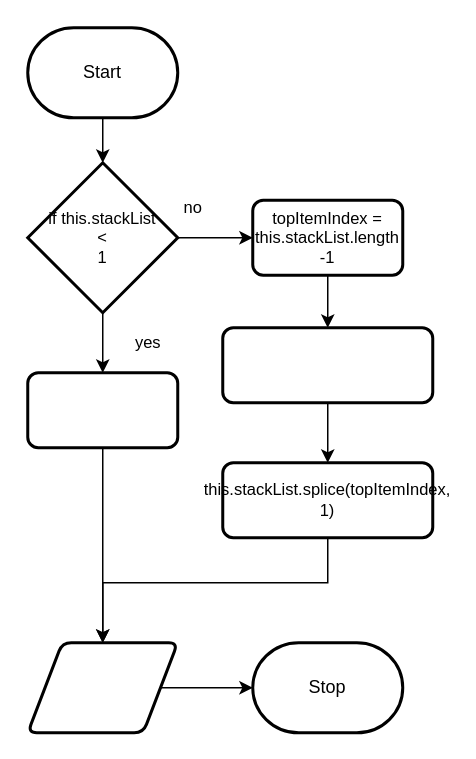
Some shapes in this 476 by 759 pixel diagram are drawn without their labels. Here are the shapes that lost their labels. From the top down, the box of each, then its label:
(220, 326, 434, 404): topItem = this.stackList[topItemIndex]
(26, 370, 178, 448): topItem = "The stack is empty!"
(26, 640, 178, 734): return topItem
